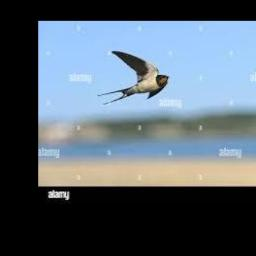Swallow: (98, 50, 168, 104)
